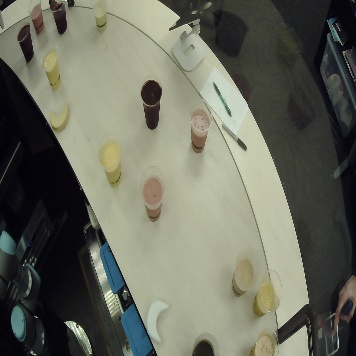full_cup: (138, 163, 173, 223), (137, 74, 170, 135), (224, 245, 261, 299), (95, 132, 128, 189), (188, 98, 217, 158), (253, 269, 285, 323), (41, 41, 66, 95), (12, 21, 38, 66), (248, 327, 285, 356), (50, 1, 70, 37), (91, 1, 113, 32), (191, 331, 218, 356), (28, 1, 47, 35)
puck: (138, 292, 173, 343), (45, 99, 74, 136)
